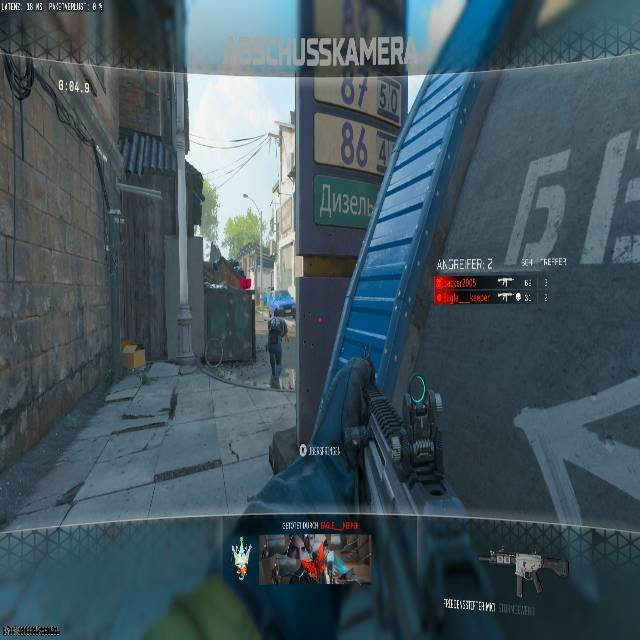head: (272, 309, 280, 317)
player: (265, 310, 288, 382)
